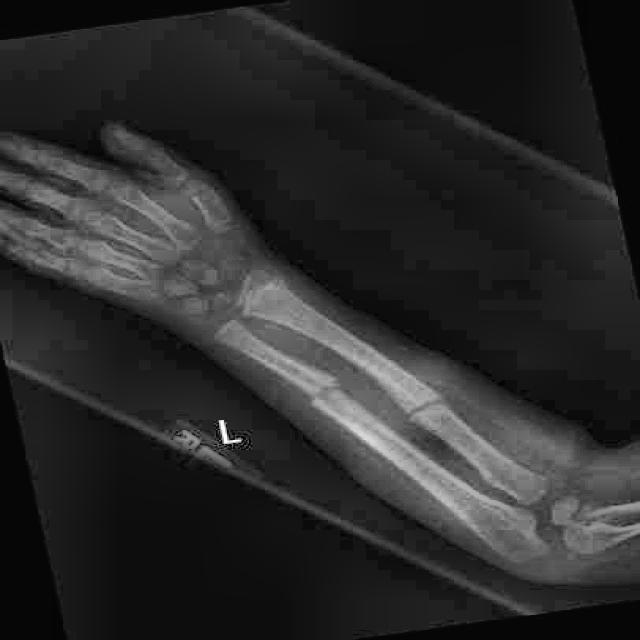forearm fracture: (262, 345, 384, 436), (388, 367, 484, 450)
